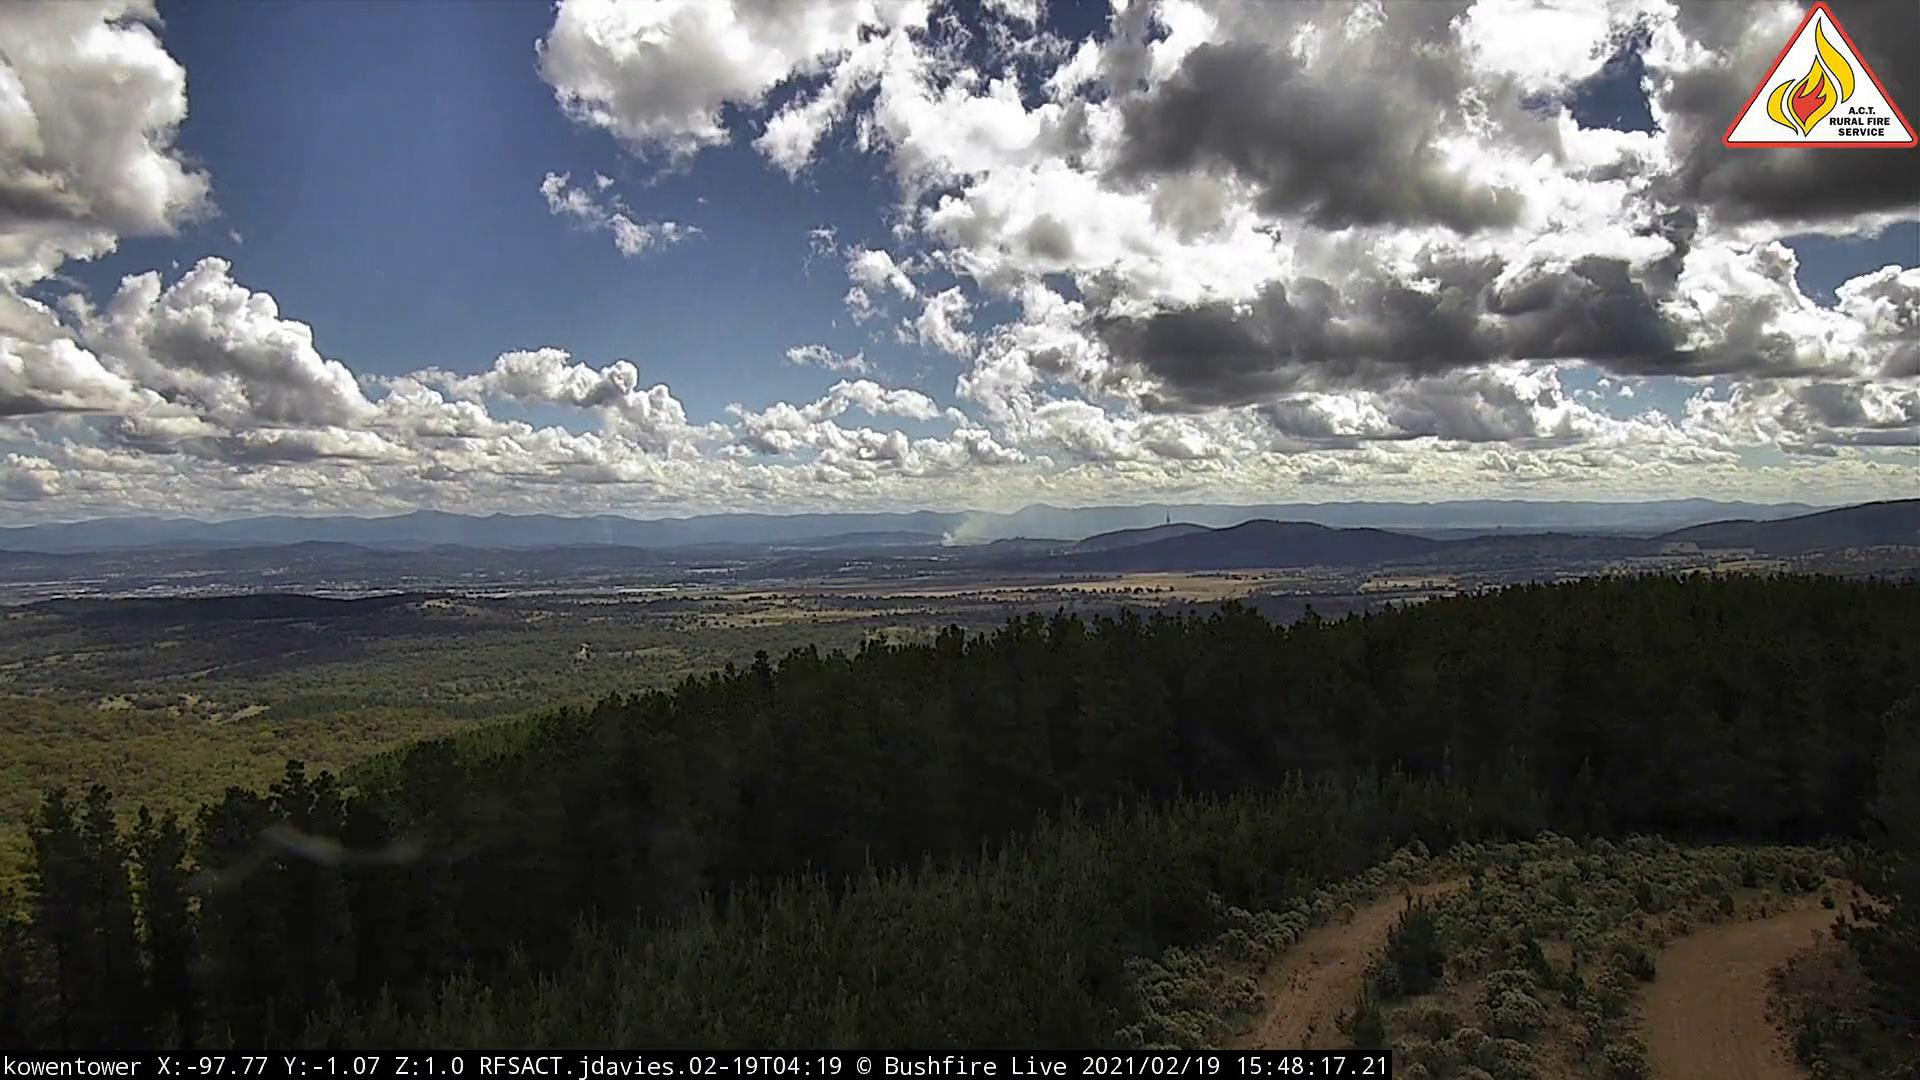Smoke: (935, 502, 1004, 550), (605, 527, 626, 553)
